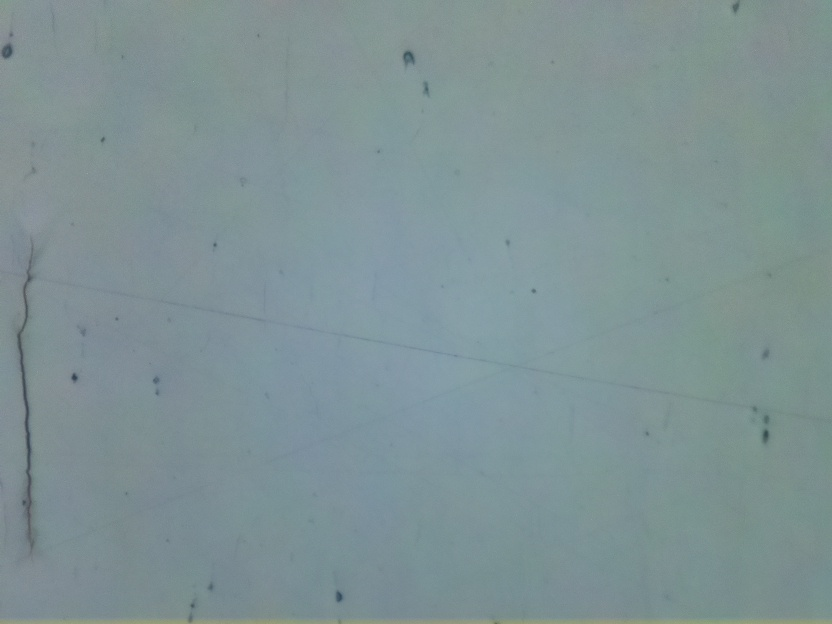crack: (13, 233, 47, 555)
